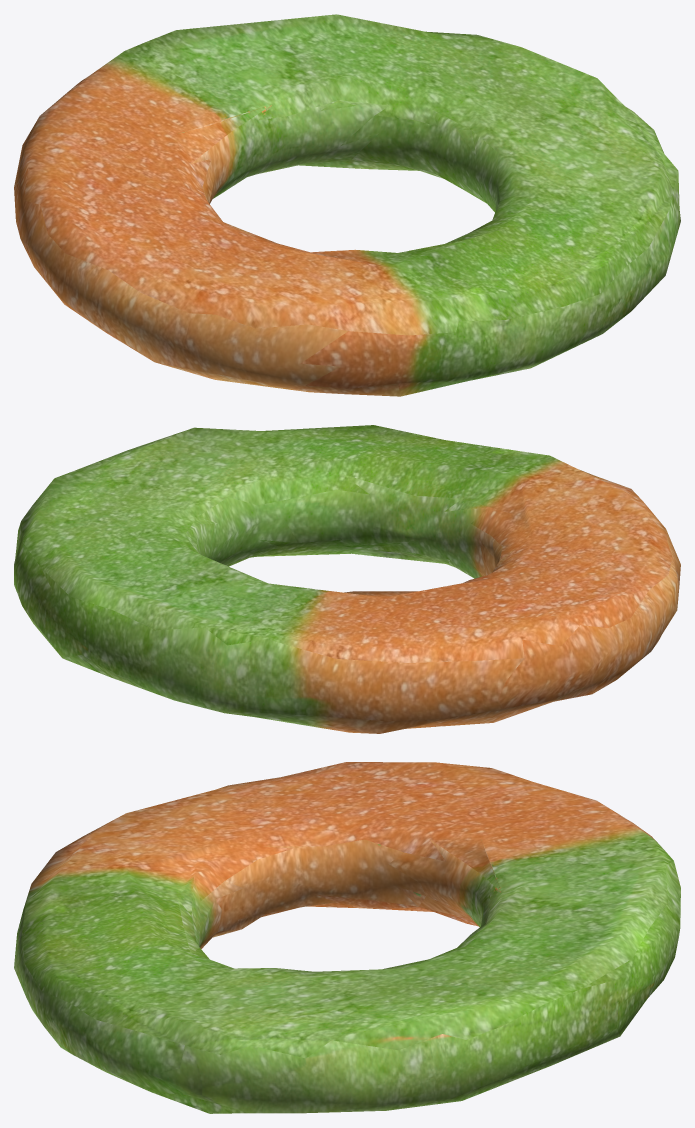
Rendered from ring1.glb.
3 views of the same model, one above another, from view 1: azimuth 30°, elevation 25°; view 2: azimuth 150°, elevation 25°; view 3: azimuth 270°, elevation 25° (orthographic).
Visible parts, largest first — view 1: Torus.002; view 2: Torus.002; view 3: Torus.002.
Boxes of the visible parts, x1,y1,x2,y2 form: Torus.002: (14,14,680,396); Torus.002: (14,425,680,733); Torus.002: (14,762,680,1113).
Size of the model in its own units: 5.37 by 1.16 by 5.22.
1 material, 1 textured.
